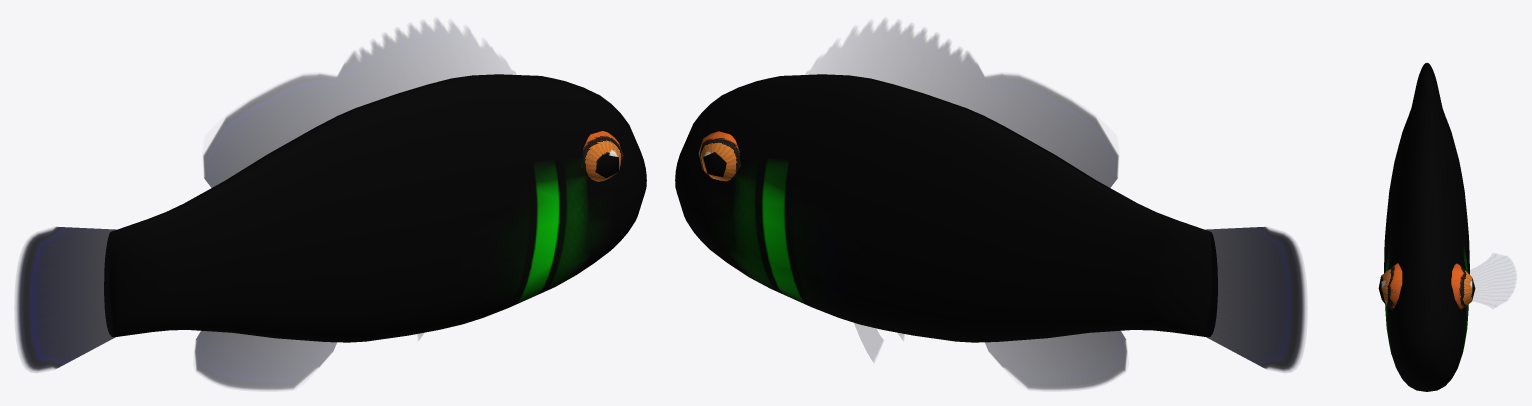
Rendered from clown_darwin_lod1.glb.
3 renders of one model, left to right at view 1: azimuth 30°, elevation 25°; view 2: azimuth 150°, elevation 25°; view 3: azimuth 270°, elevation 25°, orthographic. The views are drawn at different scales.
Visible parts, largest first — view 1: Body, FinDorsal, FinCaudal, FinAnal, EyeR; view 2: Body, FinDorsal, FinCaudal, FinAnal, EyeL, FinPelvicL; view 3: Body, EyeR, EyeL, FinPectoralL.
Part boxes in pixels (bbox=[...]): Body: bbox=[104, 74, 646, 342]; FinDorsal: bbox=[203, 20, 515, 188]; FinCaudal: bbox=[15, 227, 117, 372]; FinAnal: bbox=[194, 331, 336, 390]; EyeR: bbox=[581, 131, 623, 181]; Body: bbox=[675, 74, 1217, 342]; FinDorsal: bbox=[806, 20, 1118, 188]; FinCaudal: bbox=[1204, 227, 1306, 372]; FinAnal: bbox=[985, 330, 1127, 390]; EyeL: bbox=[698, 131, 740, 181]; FinPelvicL: bbox=[854, 322, 883, 361]; Body: bbox=[1384, 63, 1469, 391]; EyeR: bbox=[1378, 263, 1402, 309]; EyeL: bbox=[1451, 263, 1475, 309]; FinPectoralL: bbox=[1470, 254, 1515, 306].
Size of the model in its own units: 1 by 0.5195 by 0.2844.
4 materials, 3 textured.
